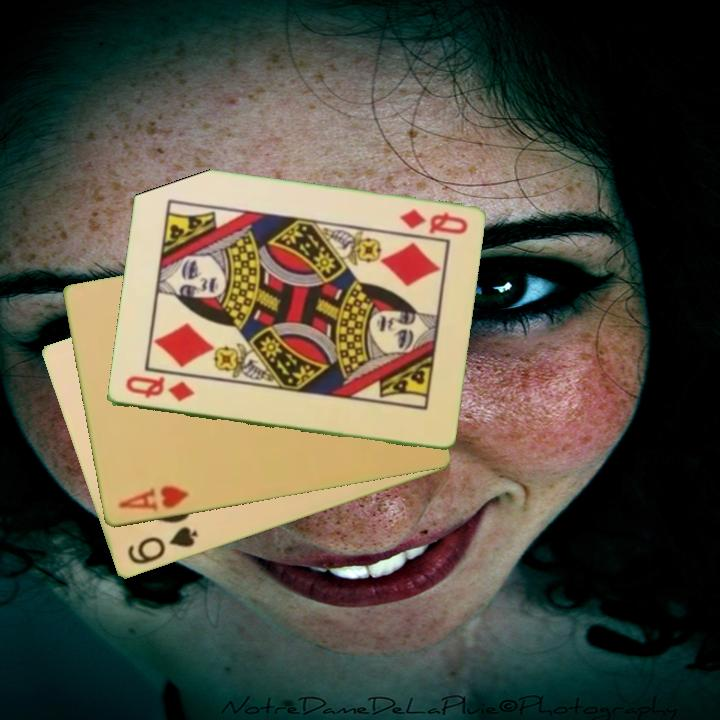6s: (123, 523, 201, 568)
Ah: (114, 482, 191, 515)
Qd: (121, 373, 197, 406), (395, 206, 470, 238)
